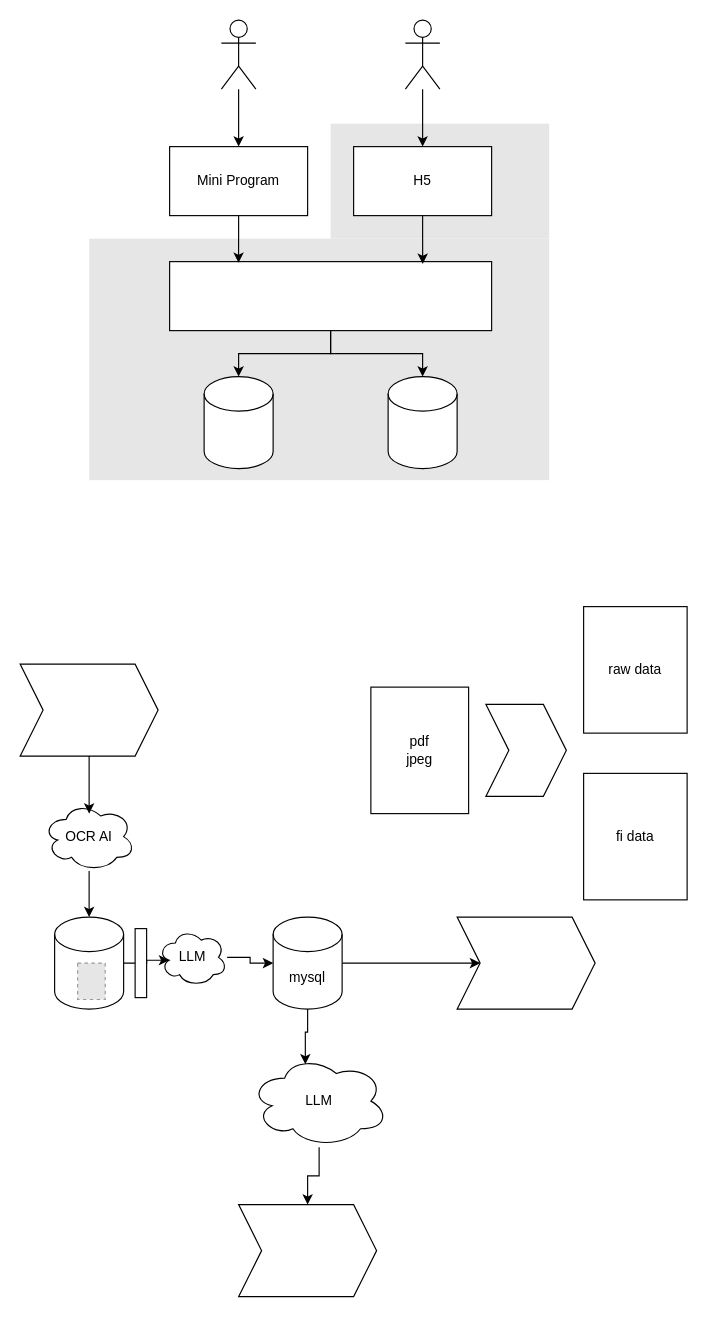
Image size: 707x1317. Some labels were removed from this diagram. Grey dashed boxes stand in for pictures. Each missing label, with the box of its shape:
Admin: (404, 19, 440, 89)
Backend service: (168, 260, 492, 331)
rar / pdf: (19, 663, 158, 756)
User: (220, 19, 256, 89)
